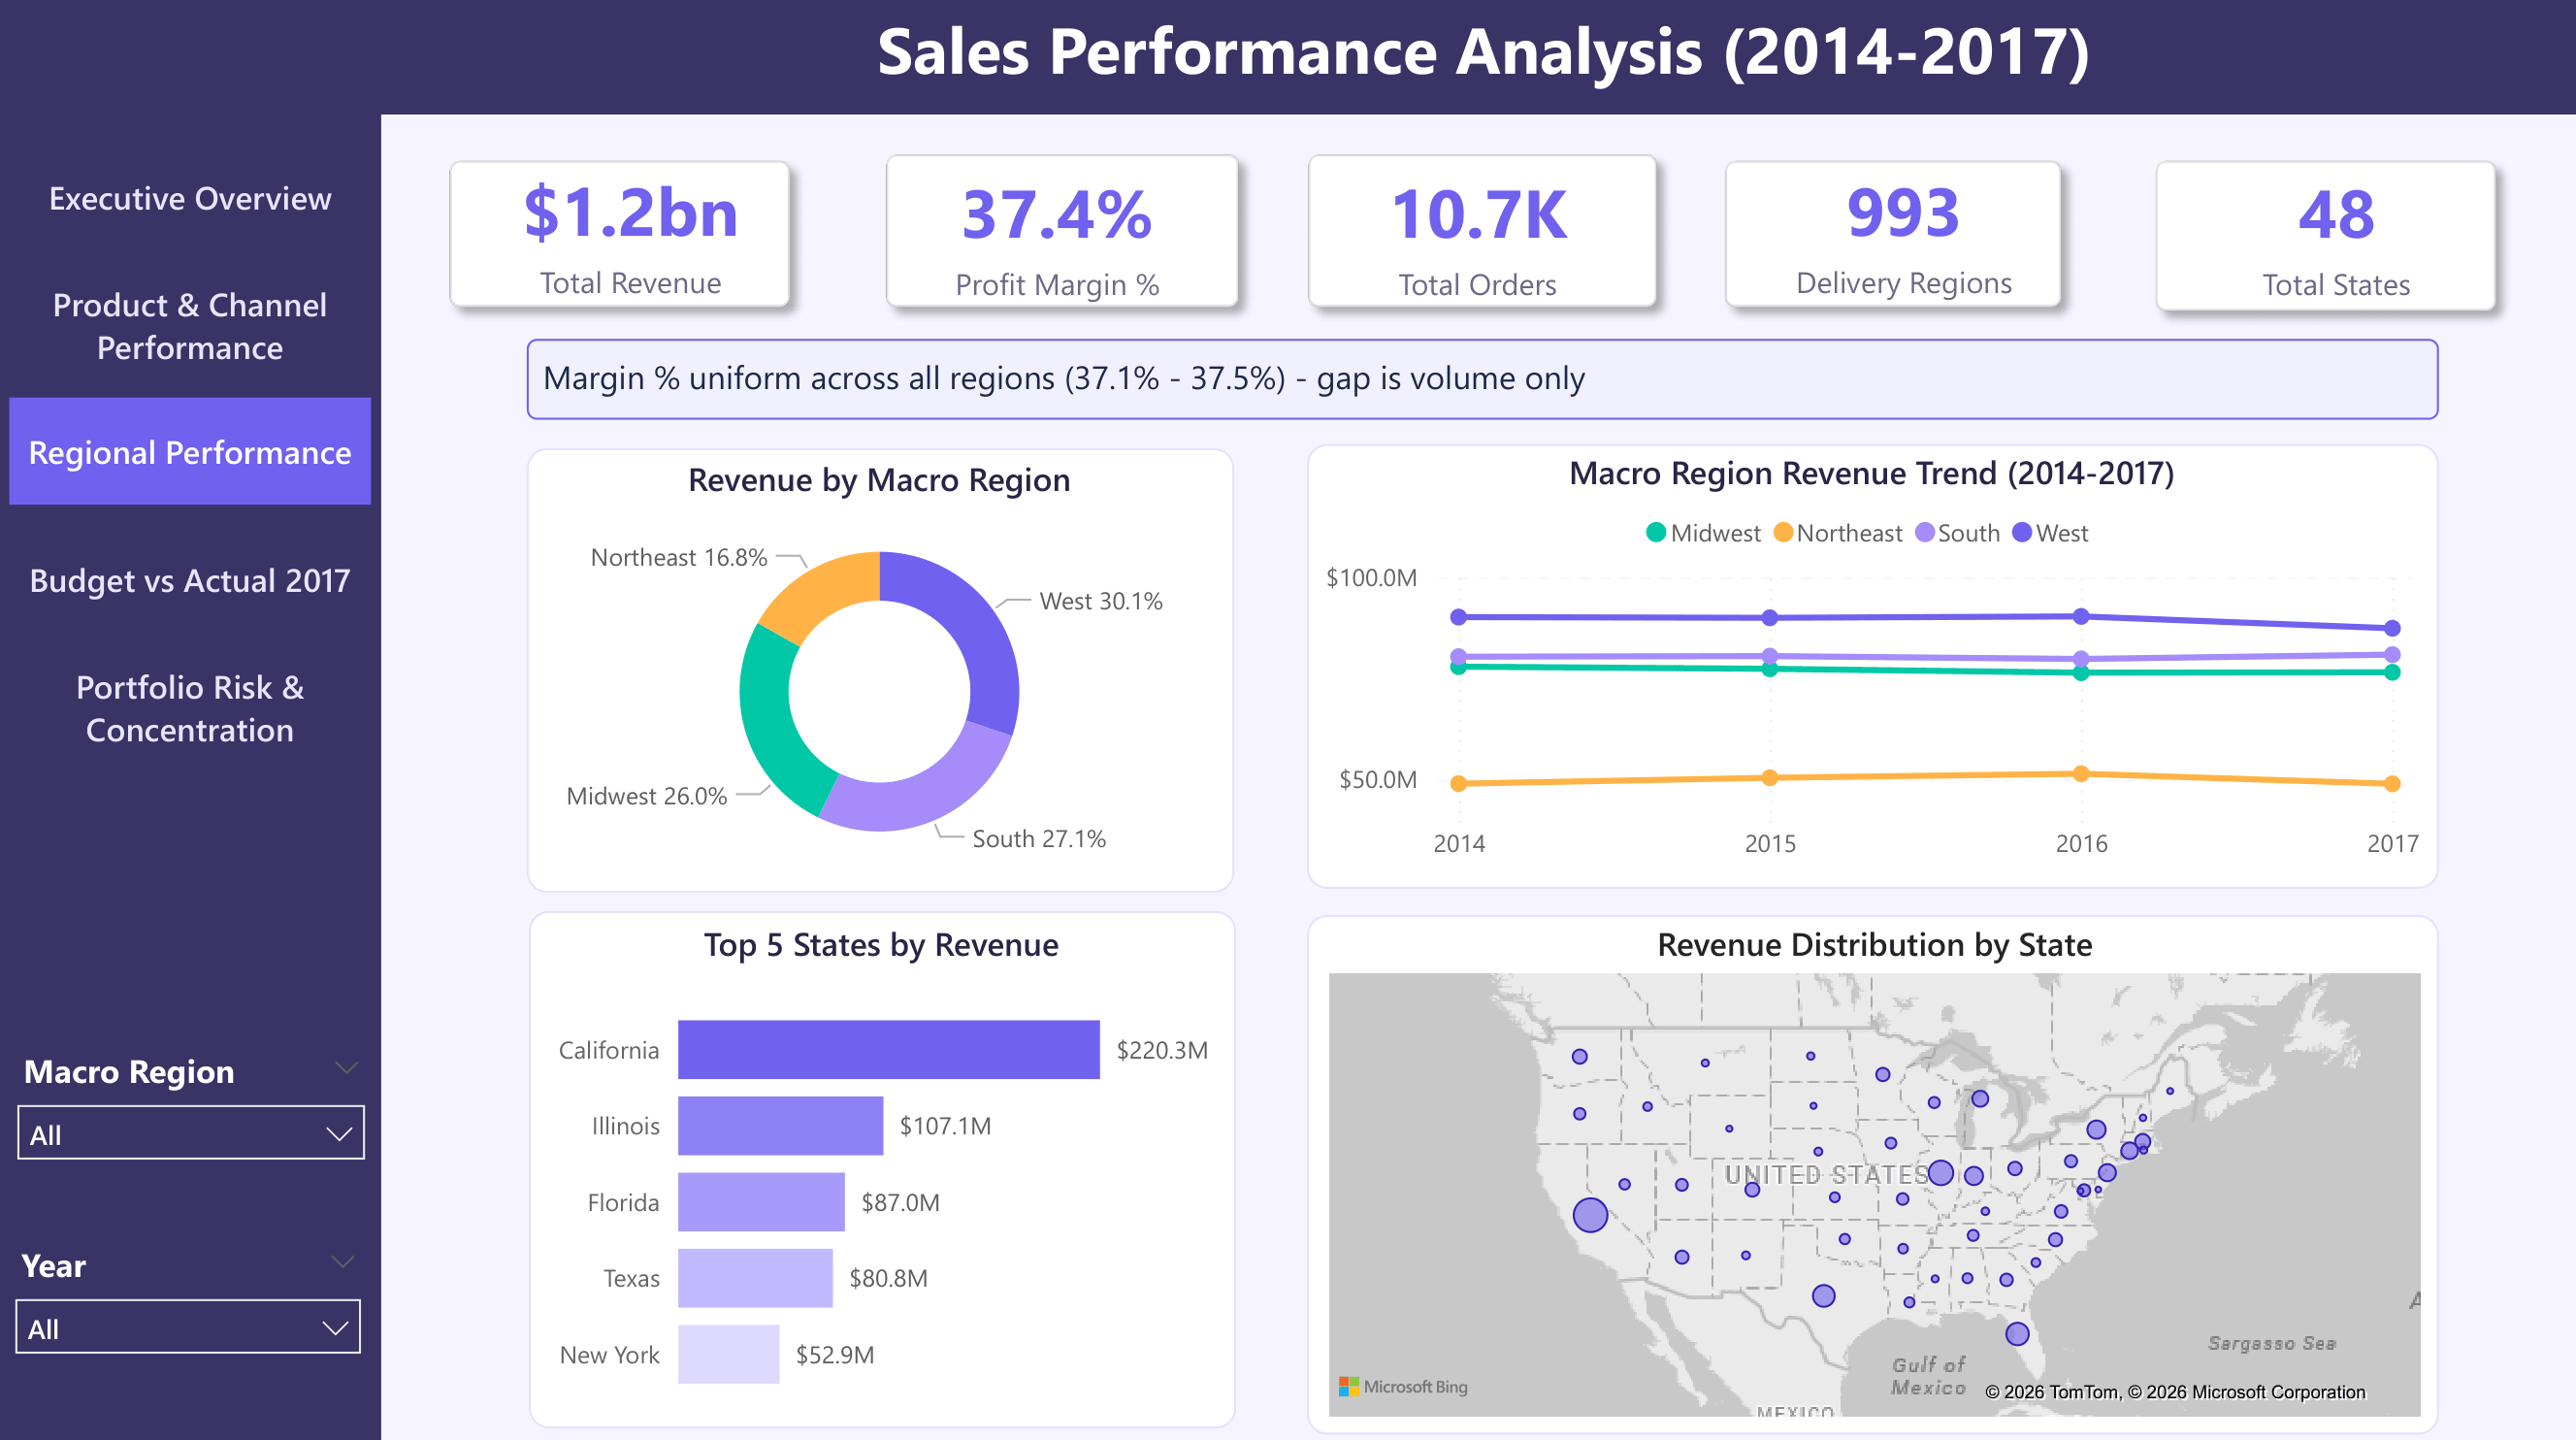

Layout of this report page (visuals, bound fields, positions):
{"tool":"powerbi","page":{"name":"Regional Performance ","canvas":[1280,720],"ordinal":2},"visuals":[{"type":"shape","box":[649,455.7,560,257.1],"z":0},{"type":"shape","box":[648.6,223.2,560,220],"z":1000},{"type":"shape","box":[431.7,70.6,191.7,93.4],"z":1002,"group":"g2"},{"type":"shape","box":[641.1,70.6,190.1,93.4],"z":1002,"group":"g4"},{"type":"shape","box":[215.7,73.3,186,90.6],"z":1002,"group":"g1"},{"type":"shape","box":[847.3,73.3,184.4,90.6],"z":1002,"group":"g3"},{"type":"shape","box":[1060,73.4,186,92.2],"z":1002,"group":"g5"},{"type":"card","fields":{"Values":["_measures.Total Revenue"]},"box":[216.4,70.6,195,93.4],"z":1502,"group":"g1"},{"type":"card","fields":{"Values":["_measures.Total Regions"]},"box":[848,70.6,193.3,93.4],"z":1502,"group":"g3"},{"type":"card","fields":{"Values":["_measures.Total States"]},"box":[1060.7,70.6,195,95],"z":1502,"group":"g5"},{"type":"card","fields":{"Values":["_measures.Weighted Margin %"]},"box":[426.8,71.2,196.7,93.4],"z":1502,"group":"g2"},{"type":"card","fields":{"Values":["_measures.Total Orders"]},"box":[636.2,71.2,195,93.4],"z":1502,"group":"g4"},{"type":"shape","box":[0,0,1280,60],"z":2000},{"type":"textbox","box":[424.3,0,625.7,58.6],"z":3000},{"type":"group","id":"g1","title":"Group 1","box":[215.7,70.6,195,95],"z":4000},{"type":"group","id":"g2","title":"Group 1","box":[426.8,70.6,195,95],"z":5000},{"type":"lineChart","title":"Macro Region Revenue Trend (2014-2017)","fields":{"Y":["_measures.Total Revenue"],"Series":["dim_regions.macro_region"],"Category":["calendar.year"]},"box":[652.9,226.1,551.4,212.9],"z":6000},{"type":"shape","box":[0,59.4,191,659.4],"z":7000},{"type":"slicer","fields":{"Values":["calendar.year"]},"box":[0,612.9,191.4,71.4],"z":8000},{"type":"pageNavigator","box":[7.1,74.1,178.8,304.7],"z":9000},{"type":"group","id":"g3","title":"Group 1","box":[847.3,70.6,195,95],"z":10000},{"type":"shape","box":[262.9,224.7,350,220],"z":11000},{"type":"donutChart","title":"Revenue by Macro Region","fields":{"Y":["_measures.Total Revenue"],"Category":["dim_regions.macro_region"]},"box":[266.4,228.6,342.2,212.3],"z":12000},{"type":"shape","box":[263.7,454.3,350,255.7],"z":13000},{"type":"clusteredBarChart","title":"Top 5 States by Revenue","fields":{"Y":["_measures.Total Revenue"],"Category":["dim_regions.state"]},"box":[268,458.6,341.4,250],"z":14000},{"type":"map","title":"Revenue Distribution by State","fields":{"Category":["dim_regions.state"],"Size":["_measures.Total Revenue"]},"box":[654.7,458.6,550,250],"z":15000},{"type":"slicer","fields":{"Values":["dim_regions.macro_region"]},"box":[1.4,517.1,191.4,71.4],"z":16000},{"type":"group","id":"g4","title":"Group 1","box":[636.2,70.6,195,95],"z":17000},{"type":"group","id":"g5","title":"Group 1","box":[1060,70.6,195.7,95],"z":18000},{"type":"textbox","box":[262.9,171.4,945.7,40],"z":19000}]}

Visuals, with their boxes on the page's 1280x720 design canvas (x1, y1, x2, y2). These are canvas units, not pixel positions in the 2576x1440 screenshot, which may show the page scaled, cropped or inside an application window:
shape: [649,456,1209,713]
shape: [649,223,1209,443]
shape: [432,71,623,164]
shape: [641,71,831,164]
shape: [216,73,402,164]
shape: [847,73,1032,164]
shape: [1060,73,1246,166]
card - _measures.Total Revenue: [216,71,411,164]
card - _measures.Total Regions: [848,71,1041,164]
card - _measures.Total States: [1061,71,1256,166]
card - _measures.Weighted Margin %: [427,71,624,165]
card - _measures.Total Orders: [636,71,831,165]
shape: [0,0,1280,60]
textbox: [424,0,1050,59]
"Group 1" group: [216,71,411,166]
"Group 1" group: [427,71,622,166]
"Macro Region Revenue Trend (2014-2017)" lineChart: [653,226,1204,439]
shape: [0,59,191,719]
slicer - calendar.year: [0,613,191,684]
pageNavigator: [7,74,186,379]
"Group 1" group: [847,71,1042,166]
shape: [263,225,613,445]
"Revenue by Macro Region" donutChart: [266,229,609,441]
shape: [264,454,614,710]
"Top 5 States by Revenue" clusteredBarChart: [268,459,609,709]
"Revenue Distribution by State" map: [655,459,1205,709]
slicer - dim_regions.macro_region: [1,517,193,588]
"Group 1" group: [636,71,831,166]
"Group 1" group: [1060,71,1256,166]
textbox: [263,171,1209,211]
